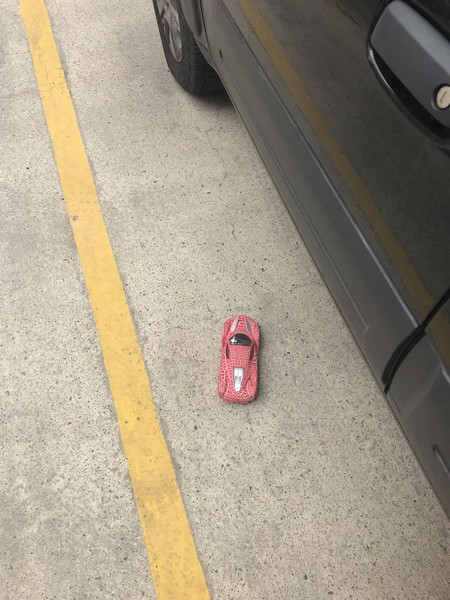RC: (217, 314, 263, 405)
